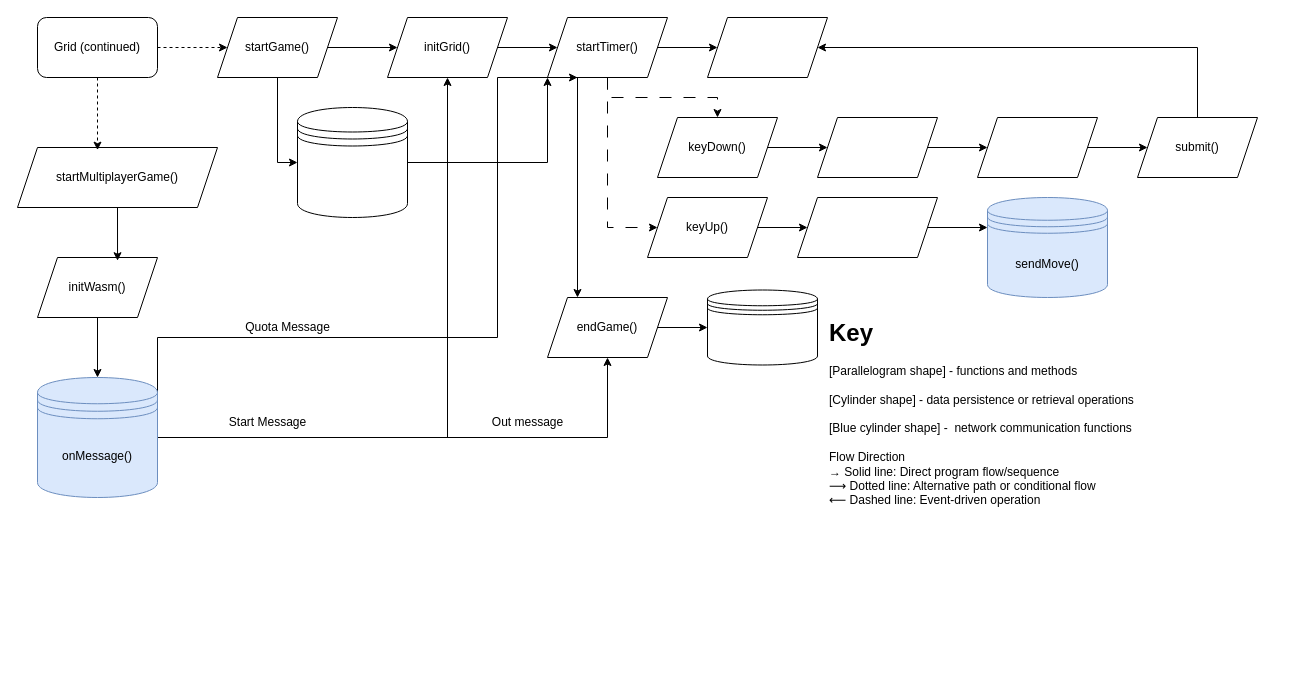
Some shapes in this 1305 by 683 pixel diagram are drawn without their labels. Here are the shapes that lost their labels. From the top down, the centre of each, then its label:
the point at 767,47: fillGrid()
the point at 352,162: getSeed()
the point at 877,147: setTimeout()
the point at 1037,147: setInterval()
the point at 867,227: clearInterval()
the point at 762,327: submitGame()
